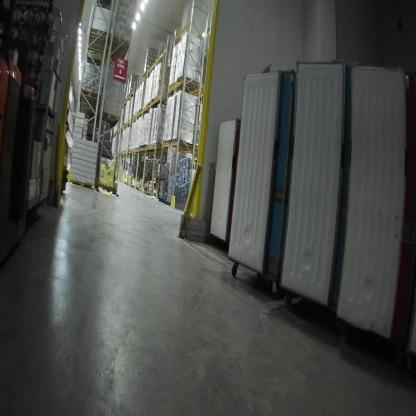pallet: (168, 80, 193, 96), (177, 74, 201, 89), (70, 178, 97, 190), (77, 89, 101, 102), (172, 81, 197, 93), (168, 138, 190, 150), (101, 110, 121, 123), (172, 137, 192, 147), (162, 138, 170, 145)
pallet_truck: (4, 58, 48, 245), (2, 33, 31, 249)
